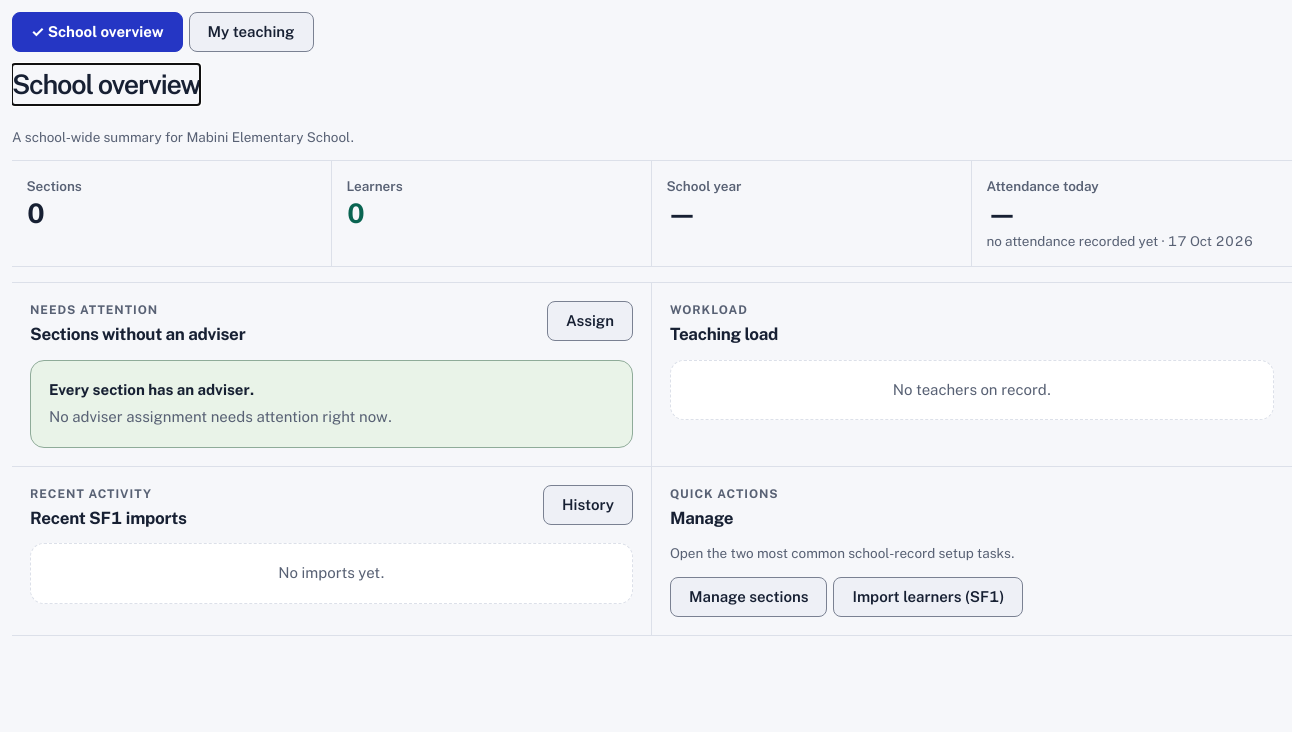
Test: HomeScreen › switches to the teacher workspace when the school head picks My teaching
This screenshot has width=1292, height=732.
Expected: the heading "School overview" is shown, [12, 64, 200, 104]
Click the button "My teaching" at {"x": 251, "y": 32}, box [188, 12, 314, 52]
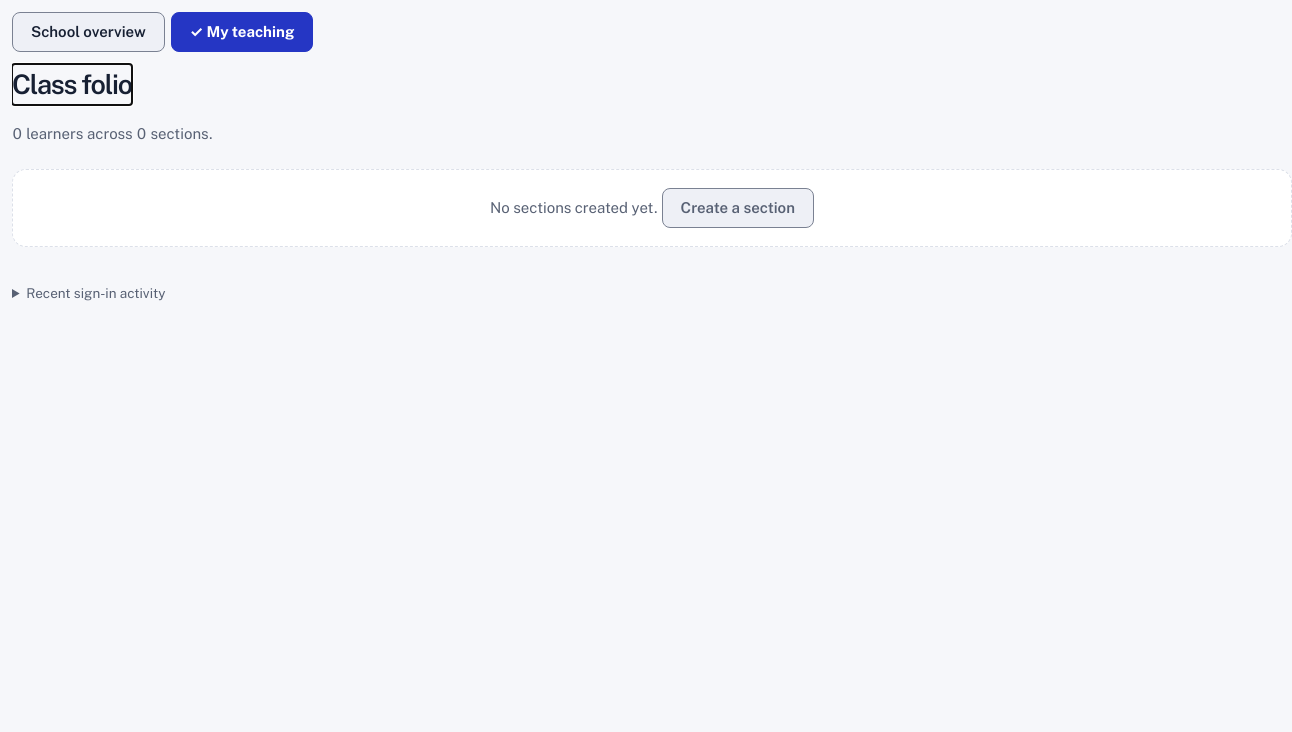
Now the element named "Workspace" is shown, box [12, 64, 1291, 315]
